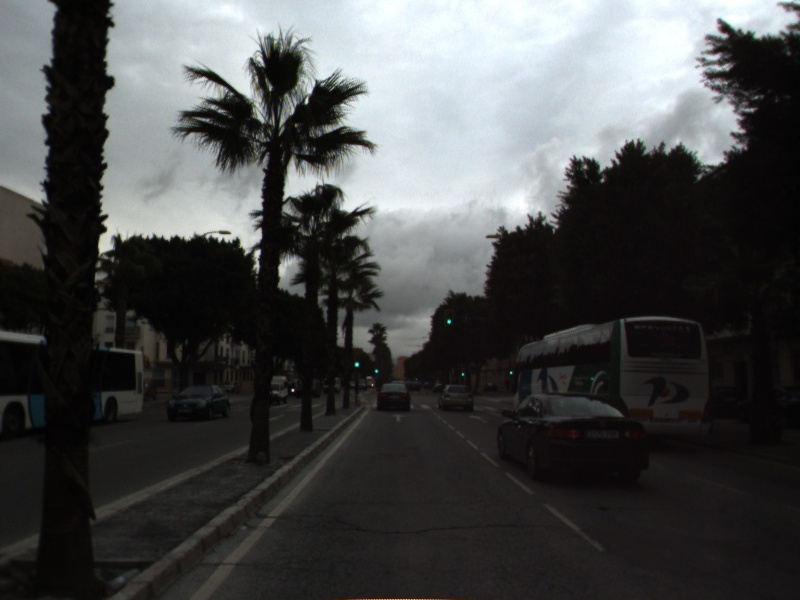STRAIGHT: (466, 412, 490, 425), (389, 411, 409, 424)
